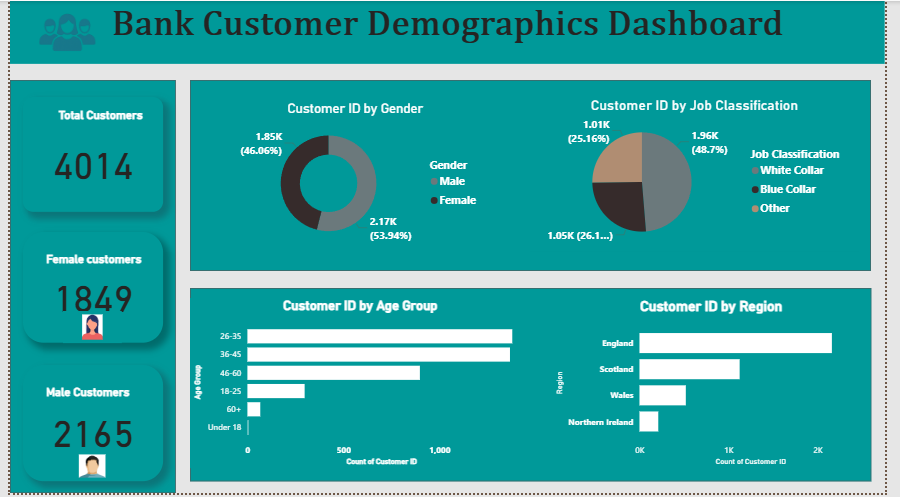

The dashboard page shown, as its layout file describes it:
{"tool":"powerbi","page":{"name":"Page 1","canvas":[1280,720],"ordinal":0},"visuals":[{"type":"shape","box":[262.7,419.4,997.1,282.9],"z":0},{"type":"shape","box":[263.4,115.6,996.6,279.5],"z":1000},{"type":"shape","box":[0,116.2,242.5,604.6],"z":2000},{"type":"barChart","title":"Customer ID by Age Group","fields":{"Category":["Bank-Customers.Age Group"],"Y":["CountNonNull(Bank-Customers.Customer ID)"]},"box":[262.7,434.5,498.5,249.3],"z":3000},{"type":"card","title":"Total Customers ","fields":{"Values":["CountNonNull(Bank-Customers.Customer ID)"]},"box":[18.5,139.8,205.5,168.4],"z":4000},{"type":"card","title":"Female customers ","fields":{"Values":["CountNonNull(Bank-Customers.Customer ID)"]},"box":[18.5,338.5,205.5,161.7],"z":5000},{"type":"card","title":"Male Customers ","fields":{"Values":["CountNonNull(Bank-Customers.Customer ID)"]},"box":[18.5,532.2,205.5,170.1],"z":6000},{"type":"donutChart","title":"Customer ID by Gender","fields":{"Category":["Bank-Customers.Gender"],"Y":["CountNonNull(Bank-Customers.Customer ID)"]},"box":[313.3,146.5,384,218.9],"z":7000},{"type":"barChart","title":" Customer ID by Region","fields":{"Category":["Bank-Customers.Region"],"Y":["CountNonNull(Bank-Customers.Customer ID)"]},"box":[793.7,434,466.1,249.9],"z":8000},{"type":"textbox","box":[0,0,1280,92.4],"z":9000},{"type":"pieChart","title":"Customer ID by Job Classification","fields":{"Category":["Bank-Customers.Job Classification"],"Y":["CountNonNull(Bank-Customers.Customer ID)"]},"box":[761.3,139.8,481.7,225.7],"z":10000},{"type":"image","box":[0,0,168,92.4],"z":11000},{"type":"image","box":[77.3,453.5,85.7,47],"z":12000},{"type":"image","box":[90.7,658.5,58.8,43.7],"z":13000}]}

Visuals, with their boxes in screenshot pixels (x1, y1, x2, y2), scaled from the page's 1280x720 canvas onto the 900x497 screenshot:
shape: <box>185,290,886,485</box>
shape: <box>185,80,886,273</box>
shape: <box>0,80,171,496</box>
"Customer ID by Age Group" barChart: <box>185,300,535,472</box>
"Total Customers " card: <box>13,97,158,213</box>
"Female customers " card: <box>13,234,158,345</box>
"Male Customers " card: <box>13,367,158,485</box>
"Customer ID by Gender" donutChart: <box>220,101,490,252</box>
" Customer ID by Region" barChart: <box>558,300,886,472</box>
textbox: <box>0,0,899,64</box>
"Customer ID by Job Classification" pieChart: <box>535,97,874,252</box>
image: <box>0,0,118,64</box>
image: <box>54,313,115,345</box>
image: <box>64,455,105,485</box>
